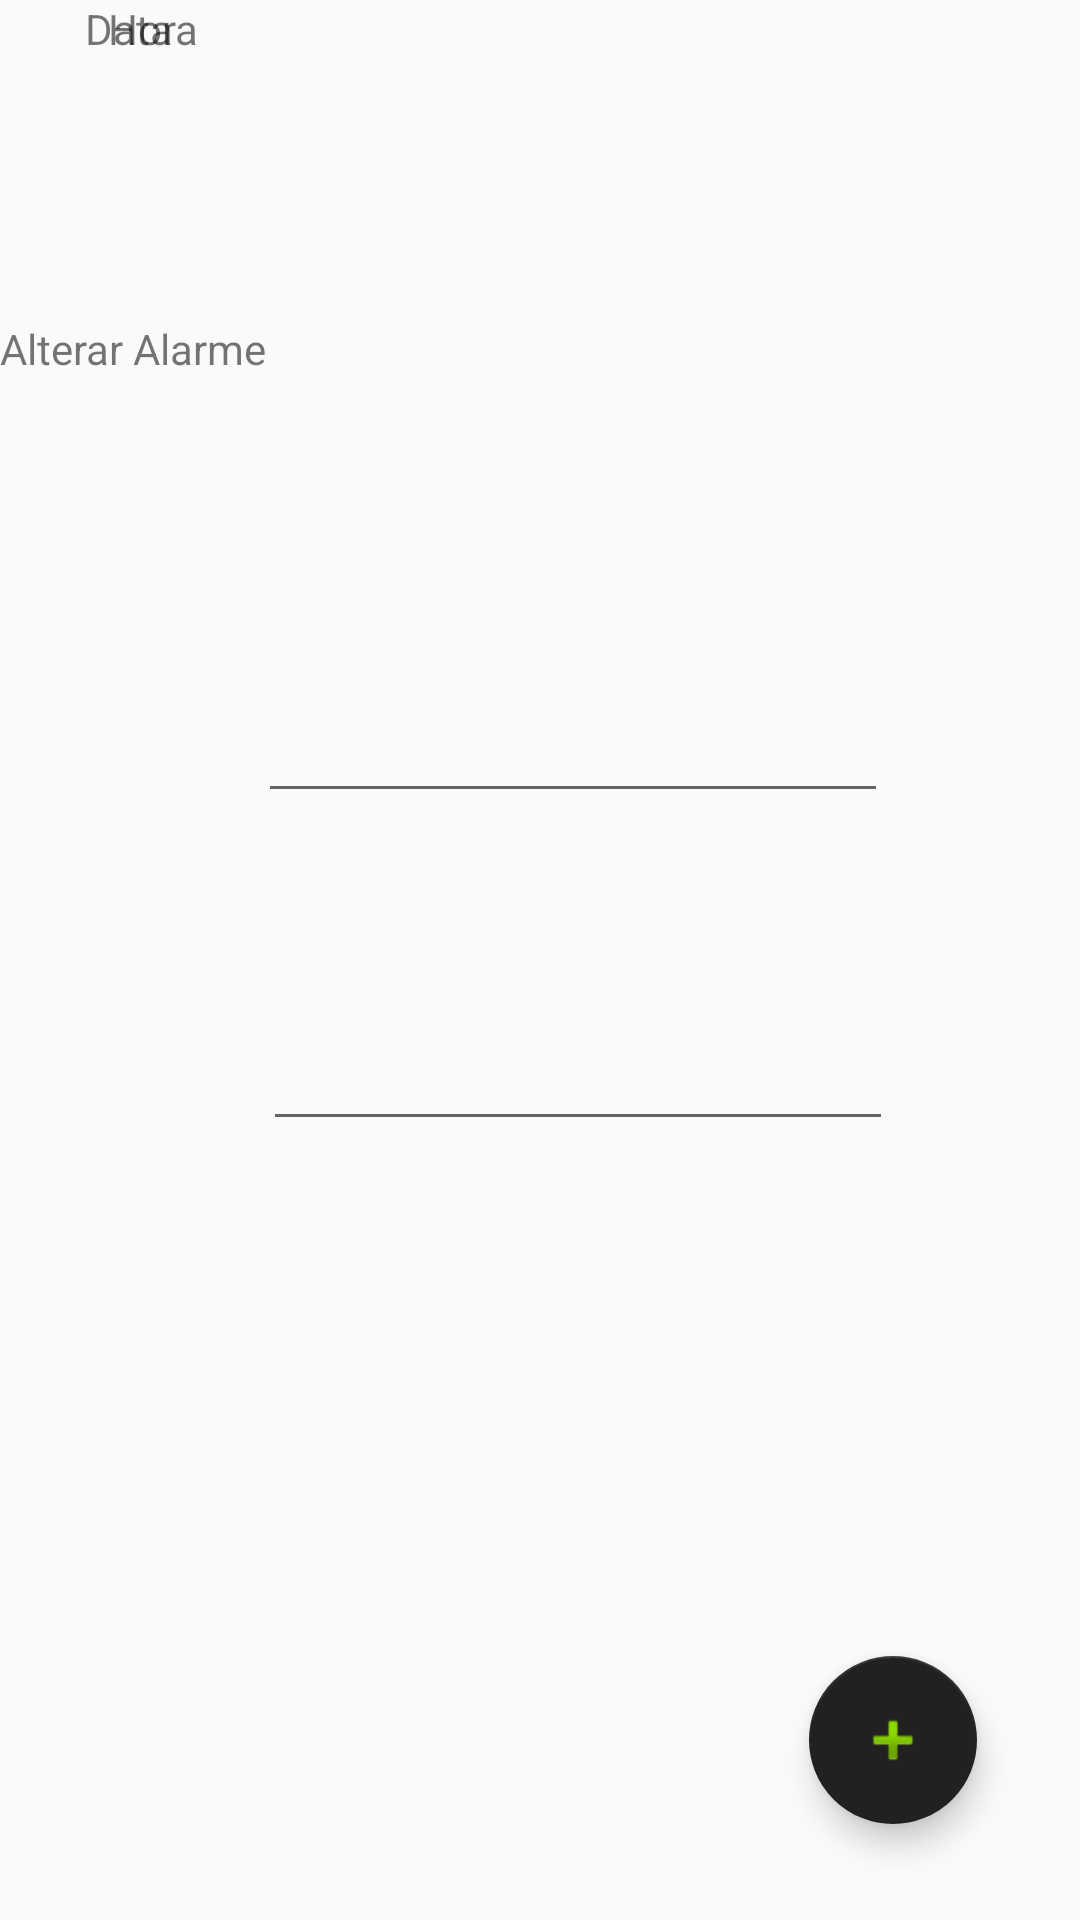

Point at icon controls on the screen. Image size 1080 x 1920, points as [x,y].
add: [893,1740]
